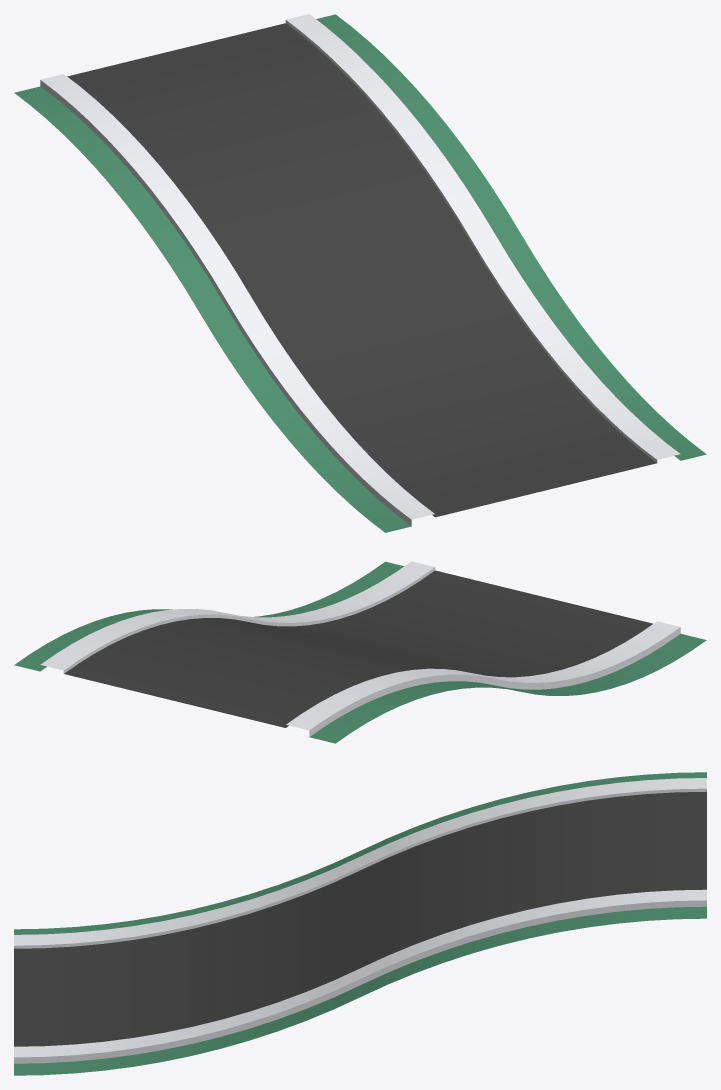
Rendered from roadRampLongCurved.glb.
3 renders of one model, top to bottom at view 1: azimuth 30°, elevation 25°; view 2: azimuth 150°, elevation 25°; view 3: azimuth 270°, elevation 25°, orthographic. The views are drawn at different scales.
Parts seen in each view (by area): view 1: roadRampLongCurved(Clone); view 2: roadRampLongCurved(Clone); view 3: roadRampLongCurved(Clone).
Part boxes in pixels (bbox=[...]): roadRampLongCurved(Clone): bbox=[14, 14, 706, 532]; roadRampLongCurved(Clone): bbox=[14, 561, 706, 743]; roadRampLongCurved(Clone): bbox=[14, 772, 706, 1075].
Bounding box in the file's own units: 1 × 0.52 × 2.
